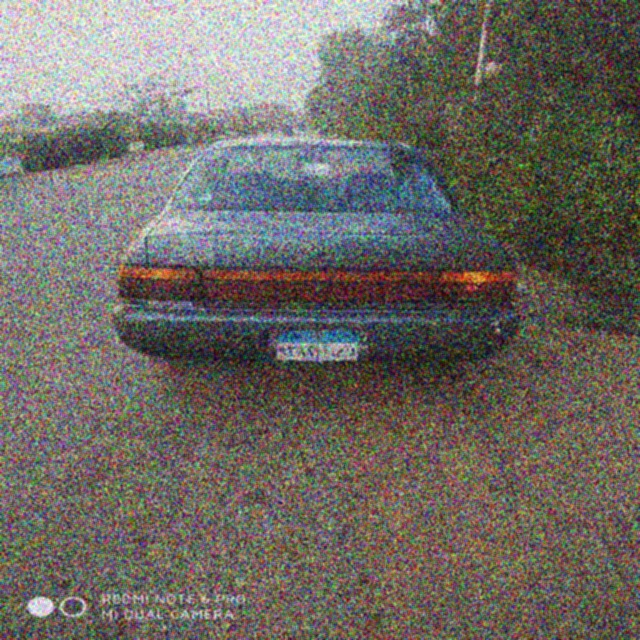License Plate: (274, 328, 361, 363)
